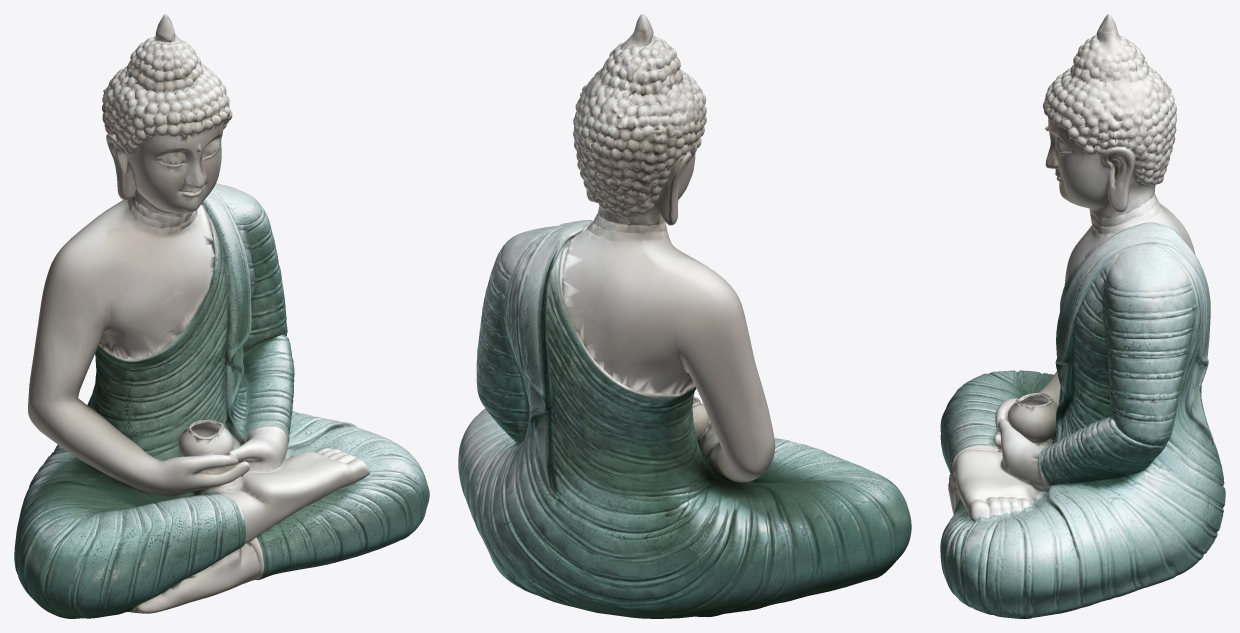
The model's file is buddha_3.glb.
3 views of the same model, side by side, from view 1: azimuth 30°, elevation 25°; view 2: azimuth 150°, elevation 25°; view 3: azimuth 270°, elevation 25° (orthographic). The views are drawn at different scales.
Visible parts, largest first — view 1: tripo_node_42e1372e-d0ce-4192-b72f-1b802eca7011; view 2: tripo_node_42e1372e-d0ce-4192-b72f-1b802eca7011; view 3: tripo_node_42e1372e-d0ce-4192-b72f-1b802eca7011.
Boxes of the visible parts, left/top/right/bottom form: tripo_node_42e1372e-d0ce-4192-b72f-1b802eca7011: left=14, top=14, right=429, bottom=618; tripo_node_42e1372e-d0ce-4192-b72f-1b802eca7011: left=458, top=14, right=911, bottom=618; tripo_node_42e1372e-d0ce-4192-b72f-1b802eca7011: left=940, top=14, right=1225, bottom=618.
Bounding box in the file's own units: 0.7758 × 0.9815 × 0.4897.
1 material, 1 textured.
